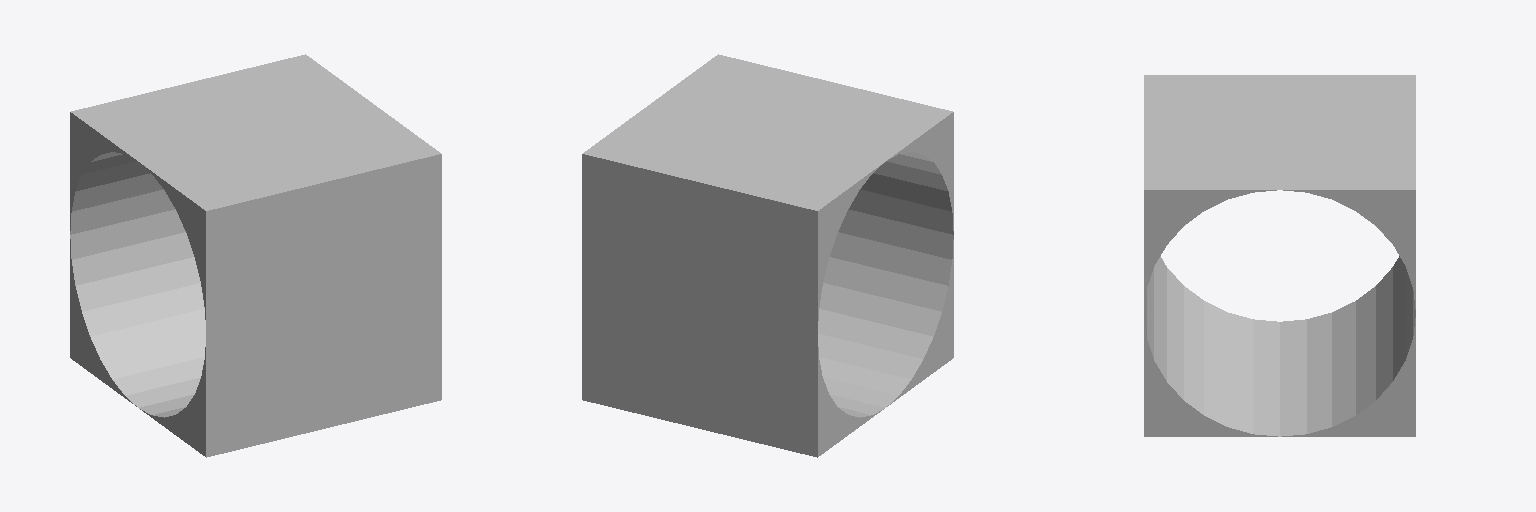
The model's file is tunnel_01.obj.
3 views of the same model, side by side, from view 1: azimuth 30°, elevation 25°; view 2: azimuth 150°, elevation 25°; view 3: azimuth 270°, elevation 25° (orthographic).
Visible parts, largest first — view 1: Cube.002; view 2: Cube.002; view 3: Cube.002.
Boxes of the visible parts, x1,y1,x2,y2 form: Cube.002: [70, 54, 441, 457]; Cube.002: [582, 54, 953, 457]; Cube.002: [1144, 75, 1415, 436].
Bounding box in the file's own units: 5 × 5 × 5.